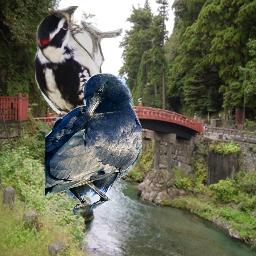Crow: (45, 73, 142, 215)
Woodpecker: (35, 6, 125, 144)
